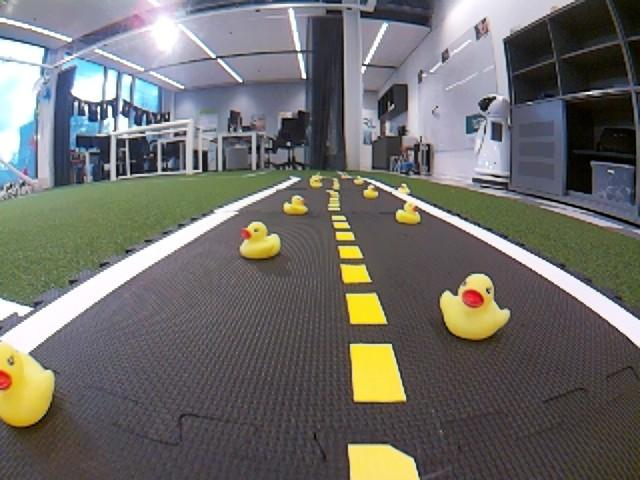Duckies: (438, 275, 512, 341), (0, 345, 52, 426), (240, 222, 280, 259), (395, 201, 422, 223), (282, 195, 309, 216), (362, 184, 379, 199), (399, 183, 411, 194), (309, 179, 322, 188), (353, 176, 365, 184), (311, 175, 320, 181)
